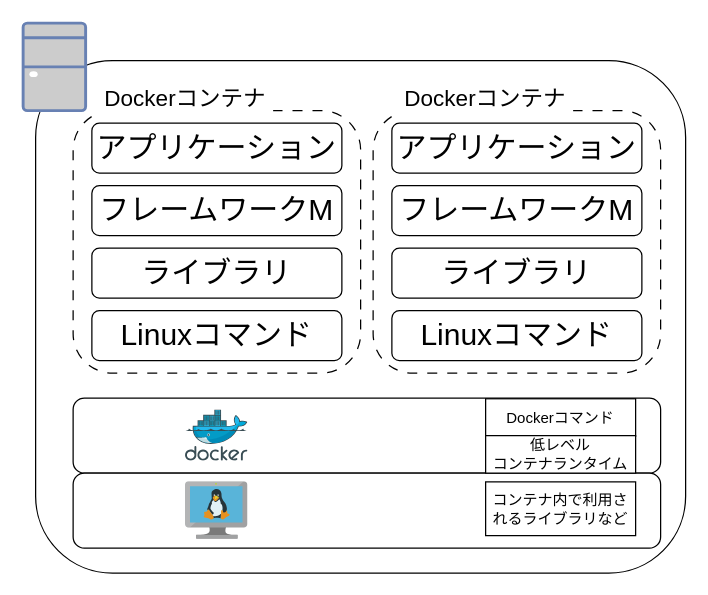
This 708x595 diagram has some shape labels left out. The shapes that lost their labels are listed below. From the top down, each one's box as (x1, y1, x2, y2) in pixels, then its label:
(72, 397, 661, 473): Docker Engine
(72, 472, 661, 548): Linux
